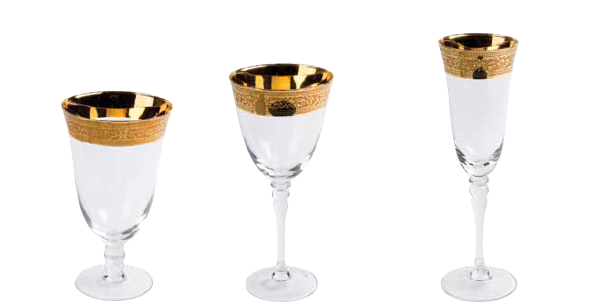Nonrec_Glass: (222, 50, 333, 301), (51, 76, 173, 303), (431, 28, 529, 301)
